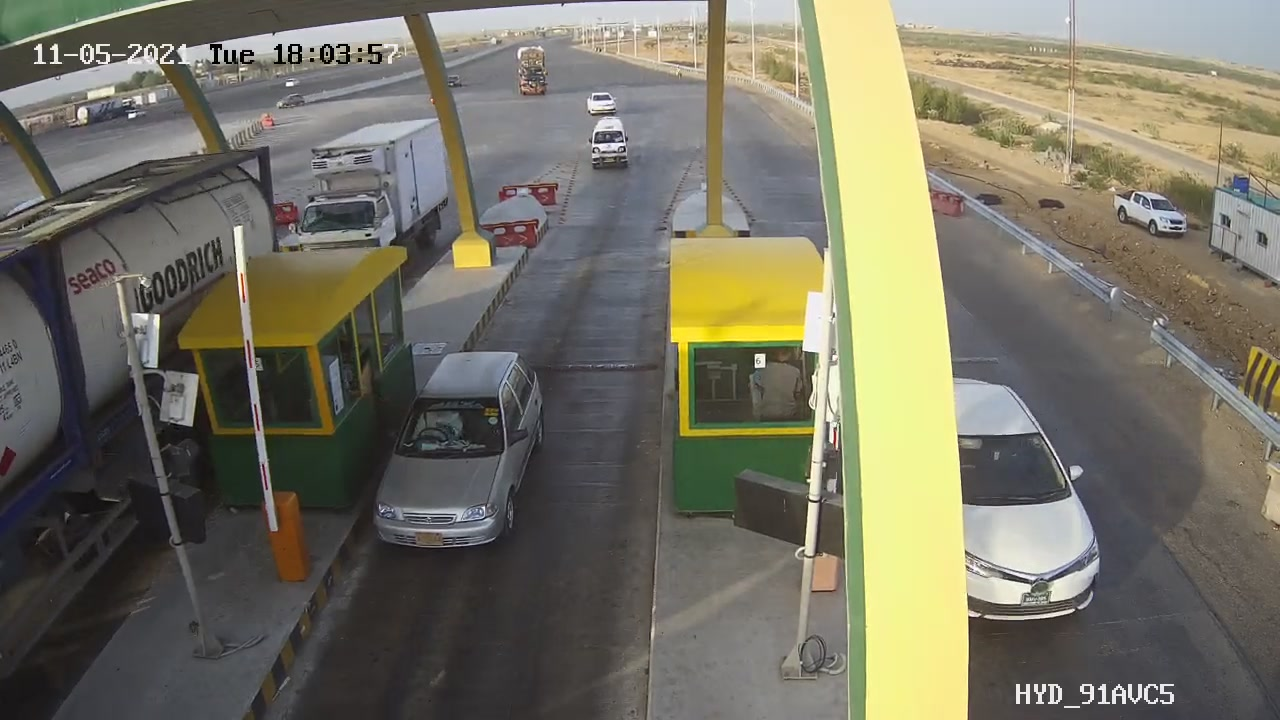F1: (353, 329, 568, 582)
